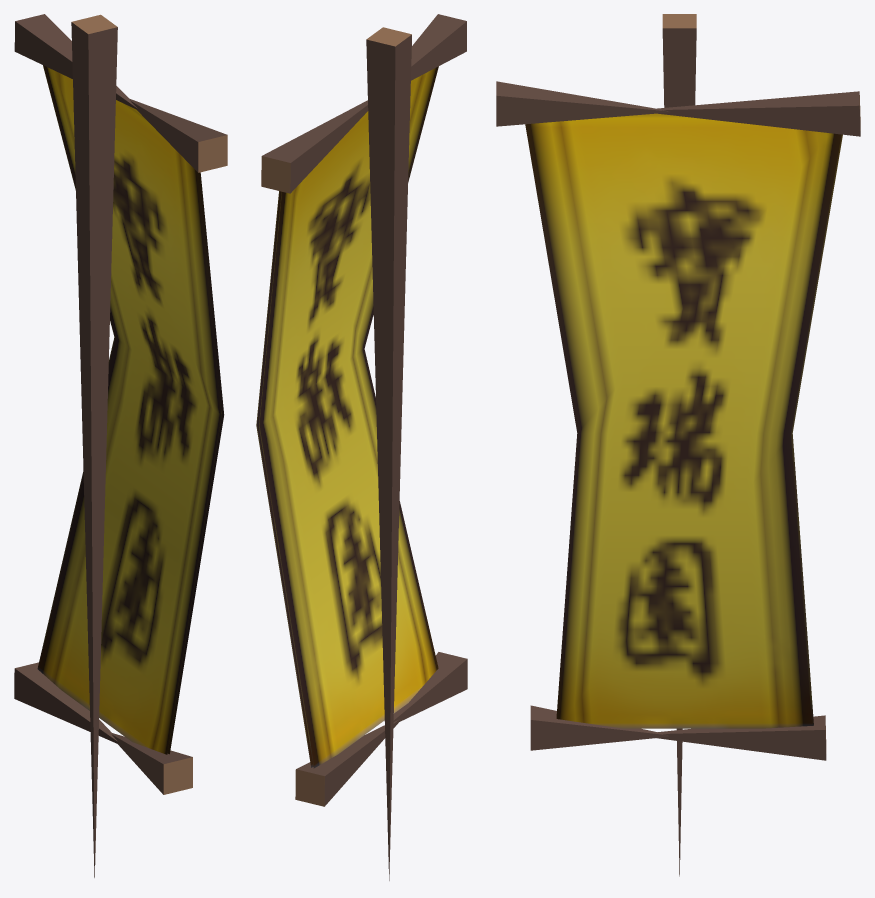
File: QSMY_City_Wujian_01.FBX
3 views of the same model, side by side, from view 1: azimuth 30°, elevation 25°; view 2: azimuth 150°, elevation 25°; view 3: azimuth 270°, elevation 25° (orthographic).
Parts seen in each view (by area): view 1: Object136; view 2: Object136; view 3: Object136.
Part boxes in pixels (x1=…): Object136: x1=14, y1=14, x2=227, y2=877; Object136: x1=256, y1=14, x2=467, y2=880; Object136: x1=496, y1=14, x2=860, y2=876.
Bounding box in the file's own units: 0.8371 × 7.37 × 2.82.
